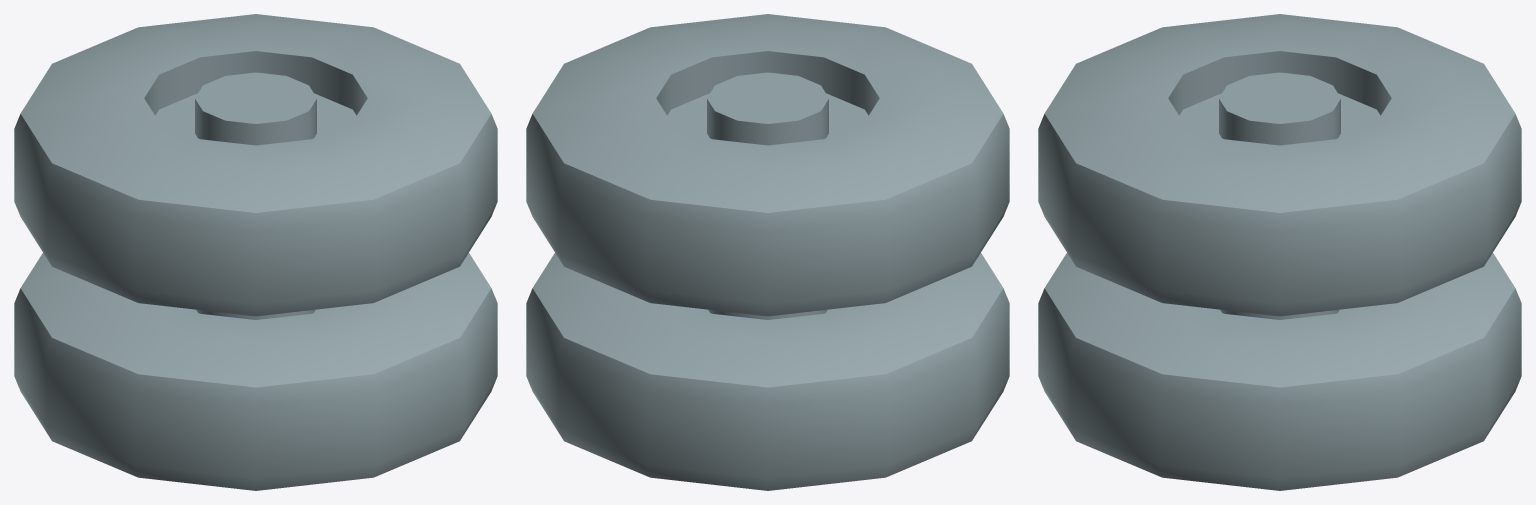
File: castor.dae
The picture shows the model from 3 angles, left to right: view 1: azimuth 30°, elevation 25°; view 2: azimuth 150°, elevation 25°; view 3: azimuth 270°, elevation 25°; orthographic projection.
Visible parts, largest first — view 1: RootNode; view 2: RootNode; view 3: RootNode.
Part boxes in pixels (x1,y1,x2,y2): RootNode: [14, 14, 497, 490]; RootNode: [526, 14, 1009, 490]; RootNode: [1038, 14, 1521, 490].
Bounding box in the file's own units: 0.0753 × 0.0753 × 0.053.
